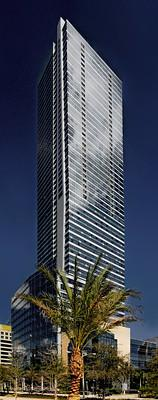building: (31, 15, 129, 398)
